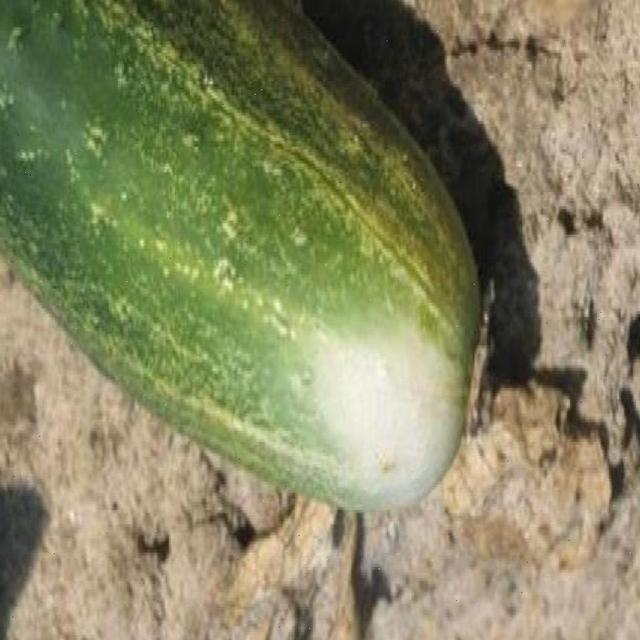Sunscald Fruit: (206, 194, 290, 342)
